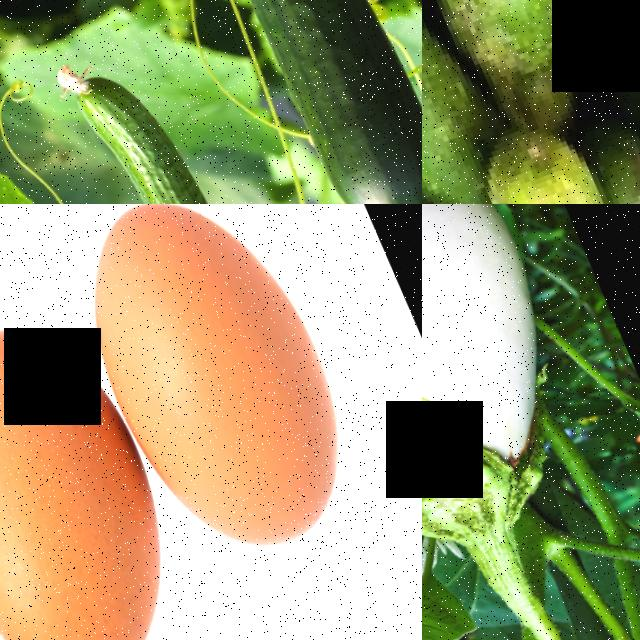cucumber: (166, 0, 422, 204), (70, 52, 250, 204), (422, 0, 605, 122), (436, 112, 640, 204), (422, 0, 496, 204), (579, 0, 640, 204)
egg_: (42, 204, 391, 585), (0, 291, 222, 640)
eggplant: (422, 204, 609, 548)
